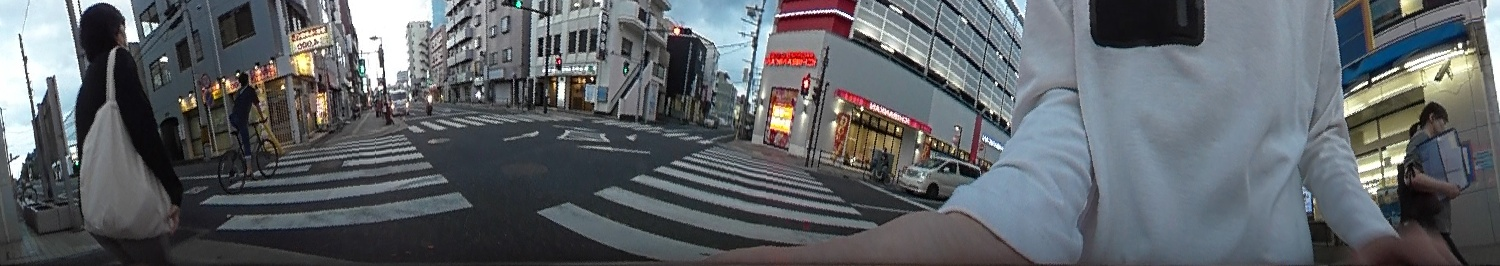difficult_person: (876, 143, 892, 177)
person: (70, 1, 192, 266), (1391, 90, 1476, 266), (225, 67, 269, 182)
